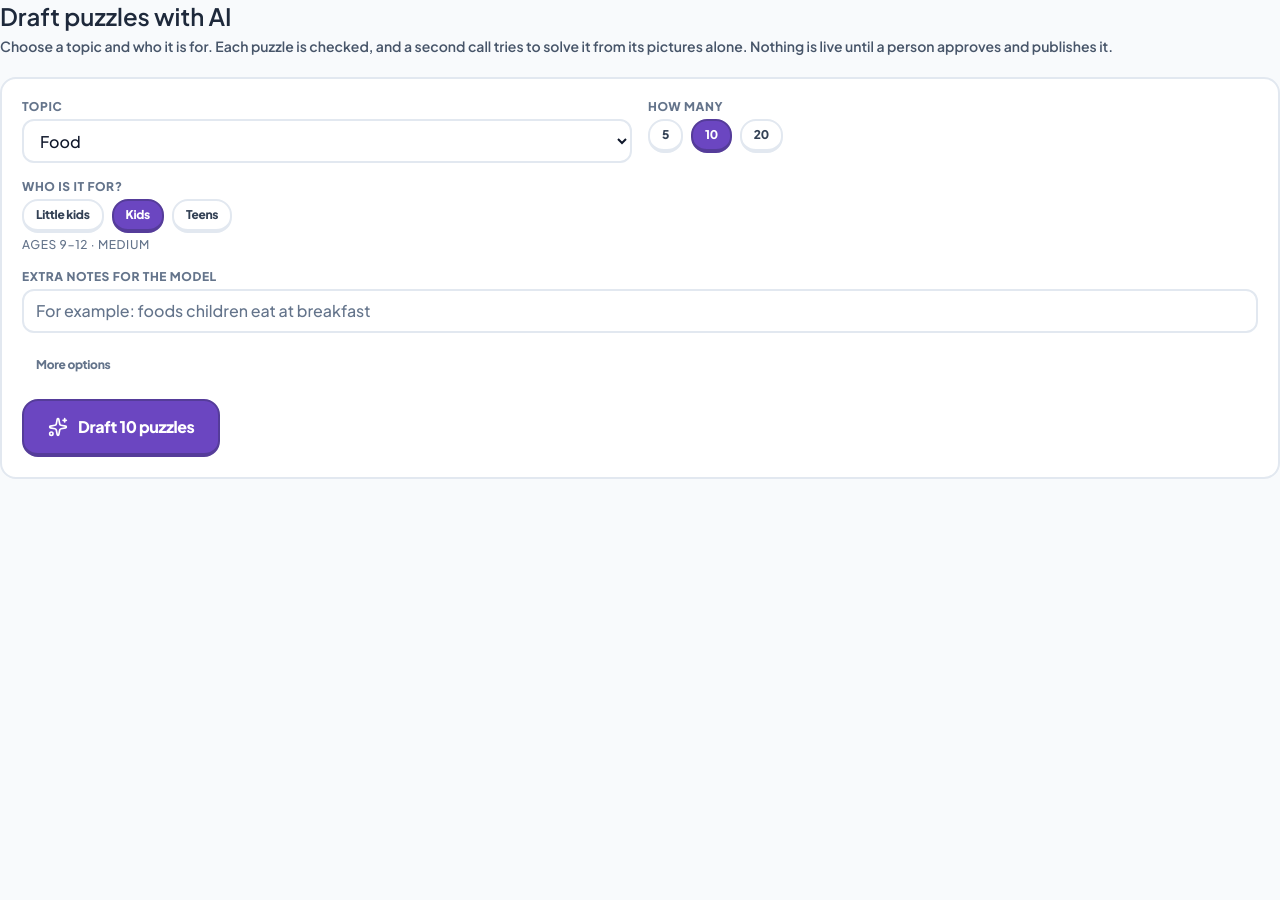
Test: the prompt › saves an edit as the next numbered version and uses the latest saved one when it opens
The image size is (1280, 900).
Click the button "More options": (73, 366) [22,349,124,383]
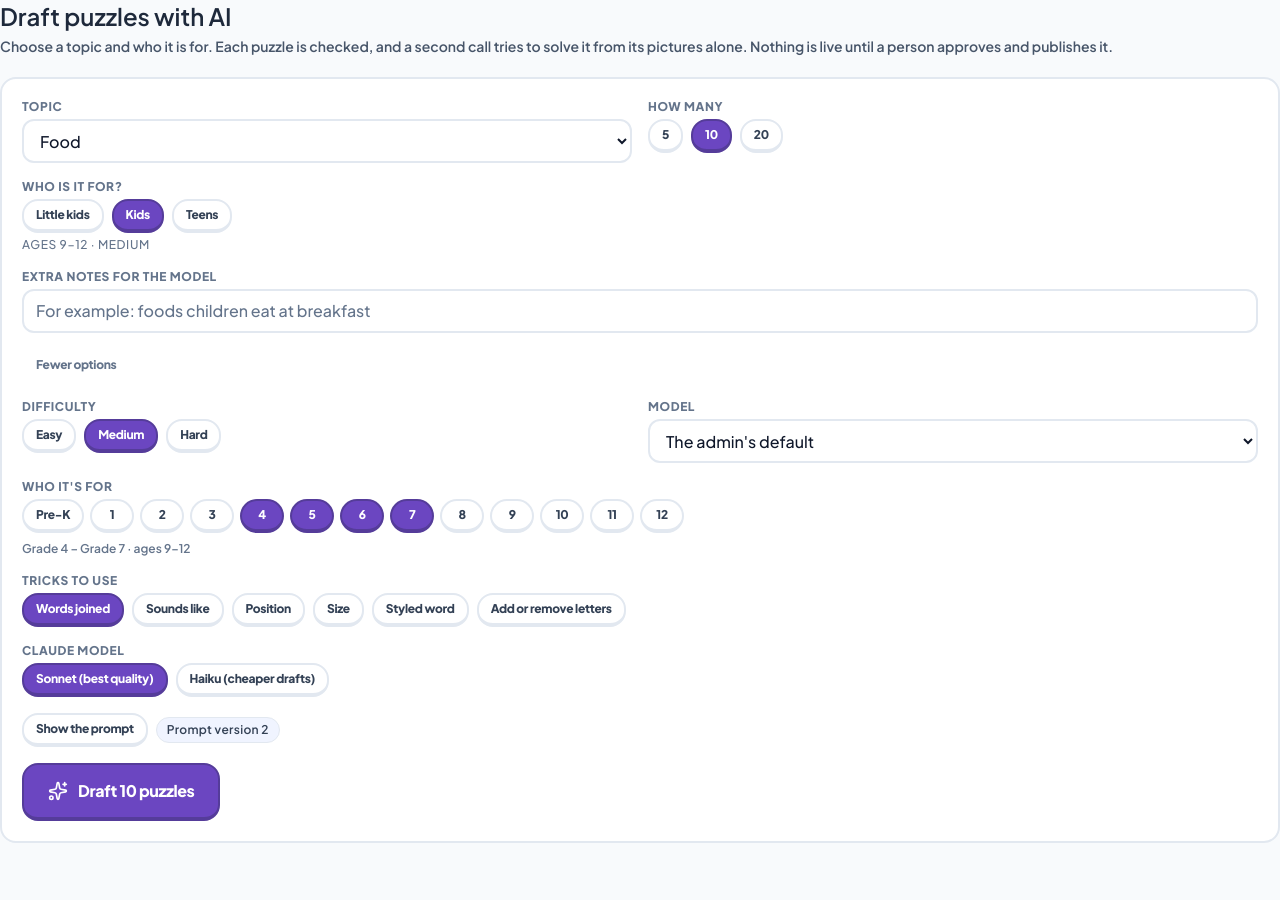
Check: the text "Prompt version 2" is shown, box [156,717,280,743]
Click the button "Show the prompt": (85, 730) [22,713,148,747]
(page scrolled)
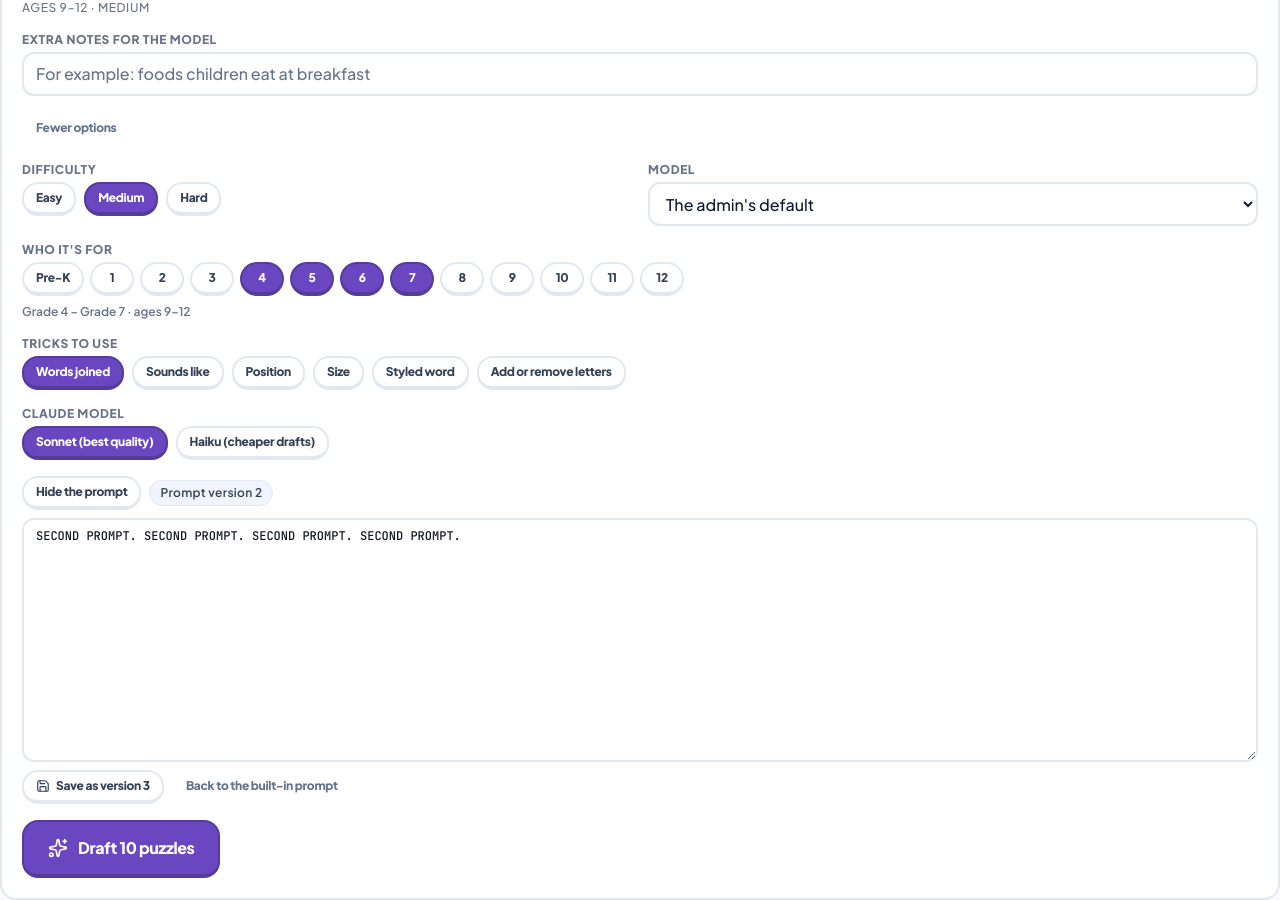
Click the button "Save as version 3": (93, 787) [22,770,164,804]
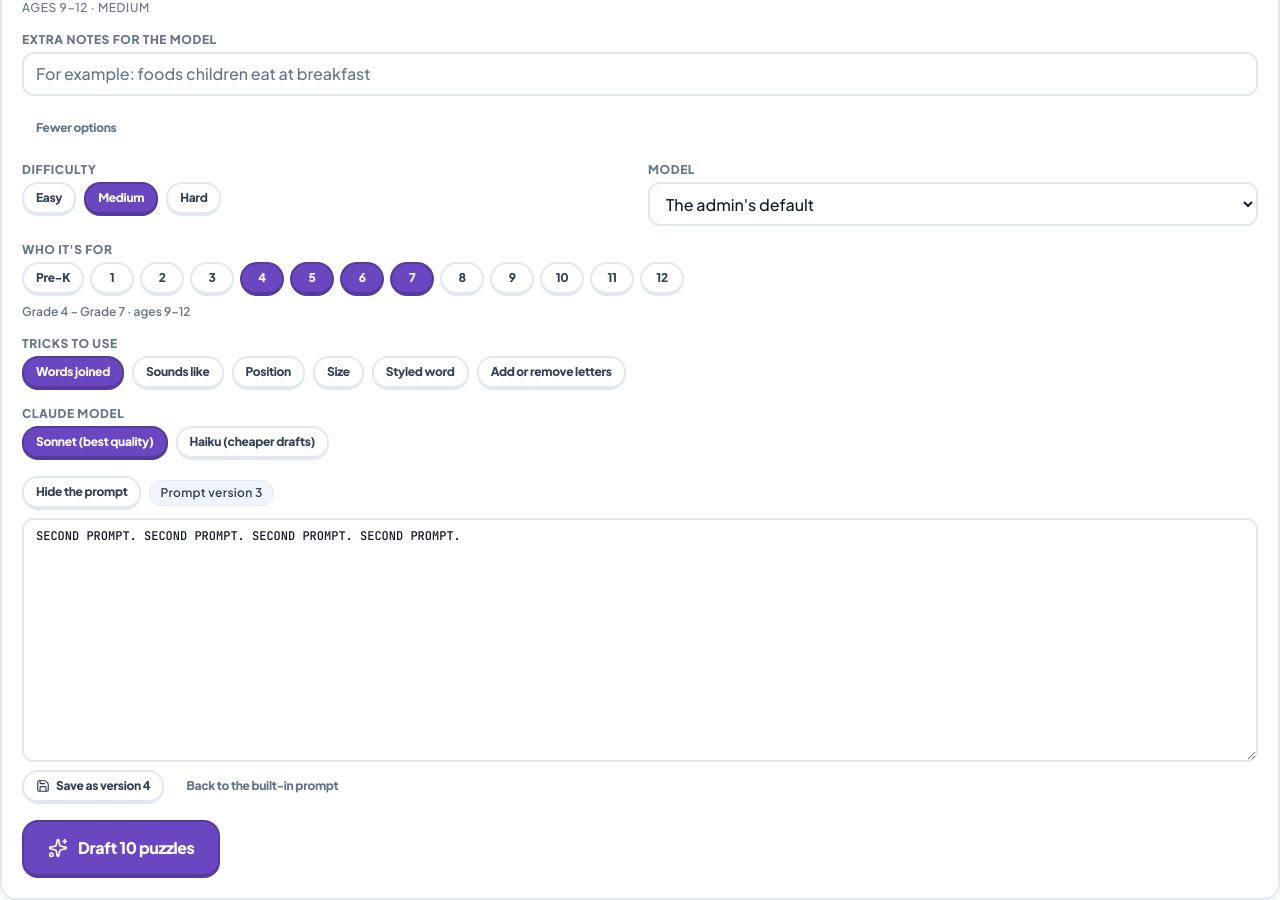
Check: the text "Prompt version 3" is shown, box [149,480,274,506]
